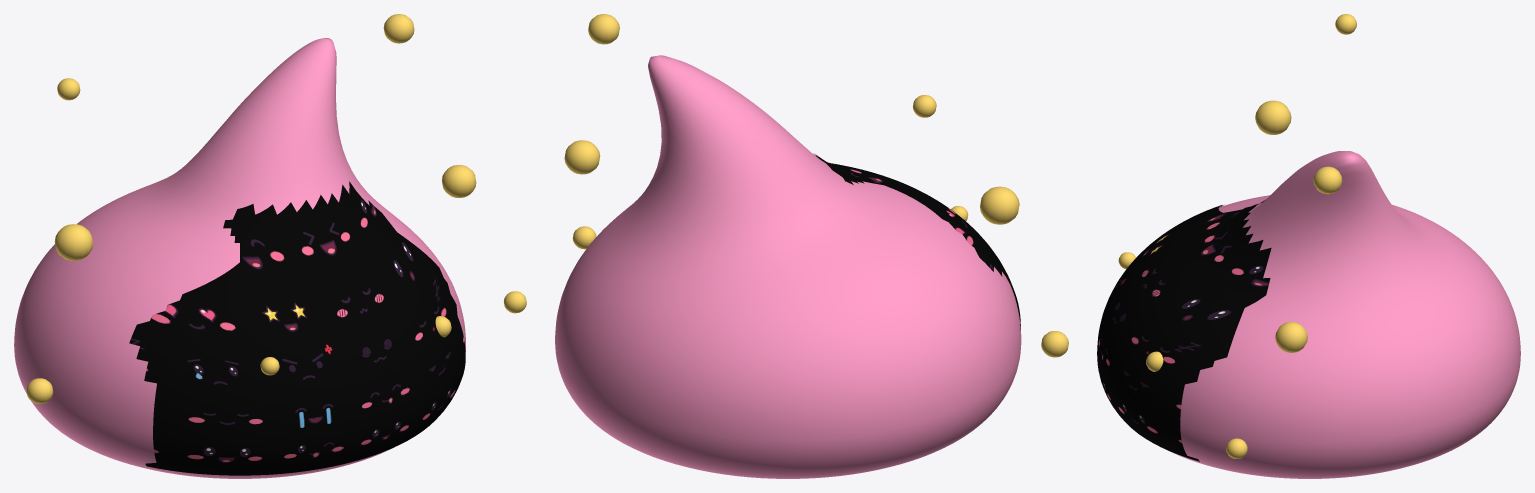
Rendered from WaterJelly.obj.
3 views of the same model, side by side, from view 1: azimuth 30°, elevation 25°; view 2: azimuth 150°, elevation 25°; view 3: azimuth 270°, elevation 25° (orthographic). The views are drawn at different scales.
Parts seen in each view (by area): view 1: WaterJelly; view 2: WaterJelly; view 3: WaterJelly.
Part boxes in pixels (<box>): WaterJelly: <box>14,14,526,478</box>; WaterJelly: <box>555,14,1068,478</box>; WaterJelly: <box>1097,14,1520,478</box>.
Size of the model in its own units: 1.44 by 0.9785 by 1.16.
